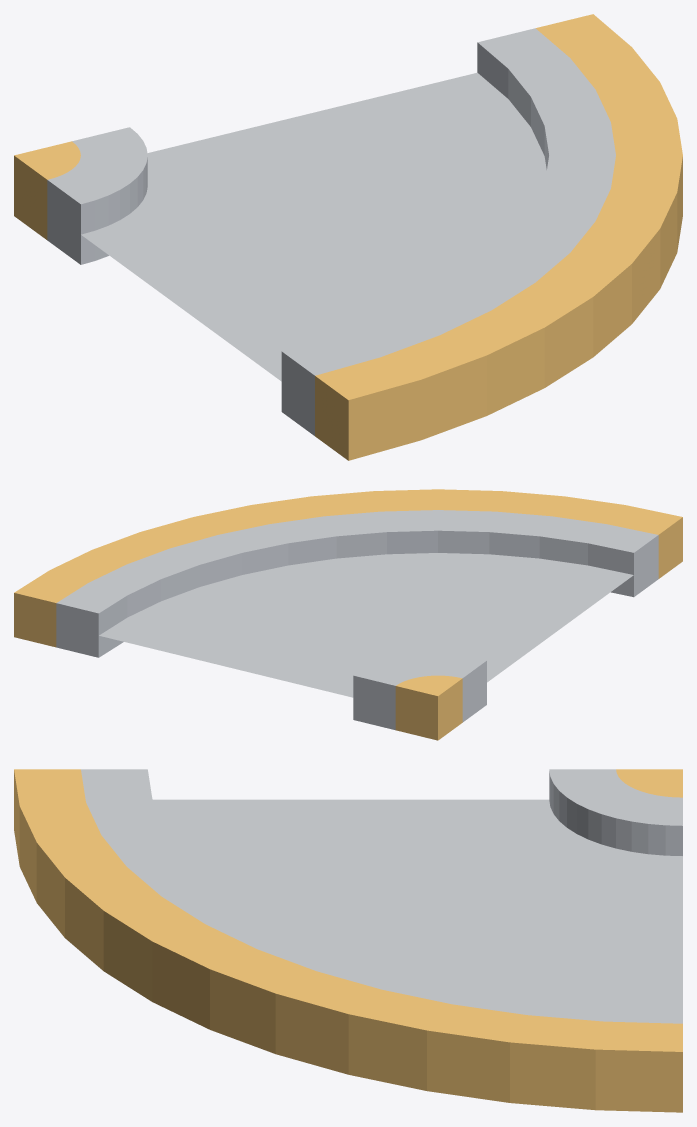
The model's file is platform_cornerRound.glb.
3 views of the same model, one above another, from view 1: azimuth 30°, elevation 25°; view 2: azimuth 150°, elevation 25°; view 3: azimuth 270°, elevation 25° (orthographic). The views are drawn at different scales.
Visible parts, largest first — view 1: platform_cornerRound; view 2: platform_cornerRound; view 3: platform_cornerRound.
Part boxes in pixels (left/top/right/bottom): platform_cornerRound: left=14, top=14, right=682, bottom=460; platform_cornerRound: left=14, top=489, right=682, bottom=740; platform_cornerRound: left=14, top=769, right=682, bottom=1112.
Size of the model in its own units: 1 by 0.1 by 1.
